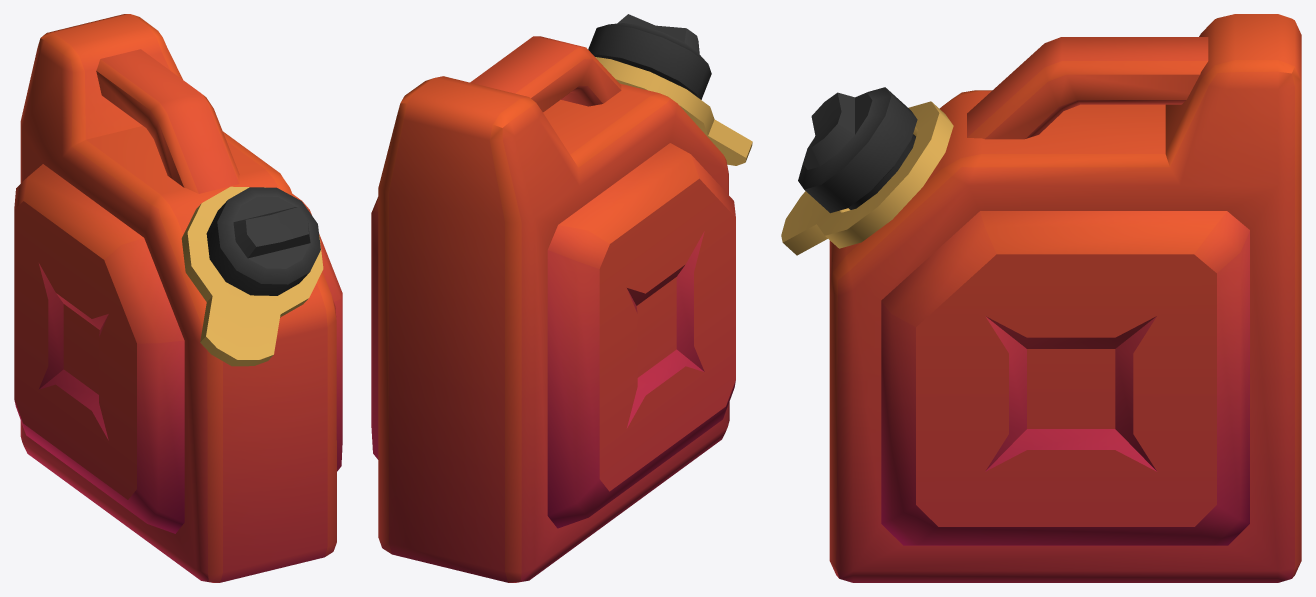
Rendered from fuel_a_jerrycan.glb.
3 renders of one model, left to right at view 1: azimuth 30°, elevation 25°; view 2: azimuth 150°, elevation 25°; view 3: azimuth 270°, elevation 25°, orthographic. The views are drawn at different scales.
Visible parts, largest first — view 1: Fuel_A_Jerrycan; view 2: Fuel_A_Jerrycan; view 3: Fuel_A_Jerrycan.
Part boxes in pixels (x1,y1,x2,y2): Fuel_A_Jerrycan: [14, 14, 342, 582]; Fuel_A_Jerrycan: [371, 14, 752, 582]; Fuel_A_Jerrycan: [781, 14, 1301, 582].
Size of the model in its own units: 0.24 by 0.468 by 0.4299.
1 material, 1 textured.
